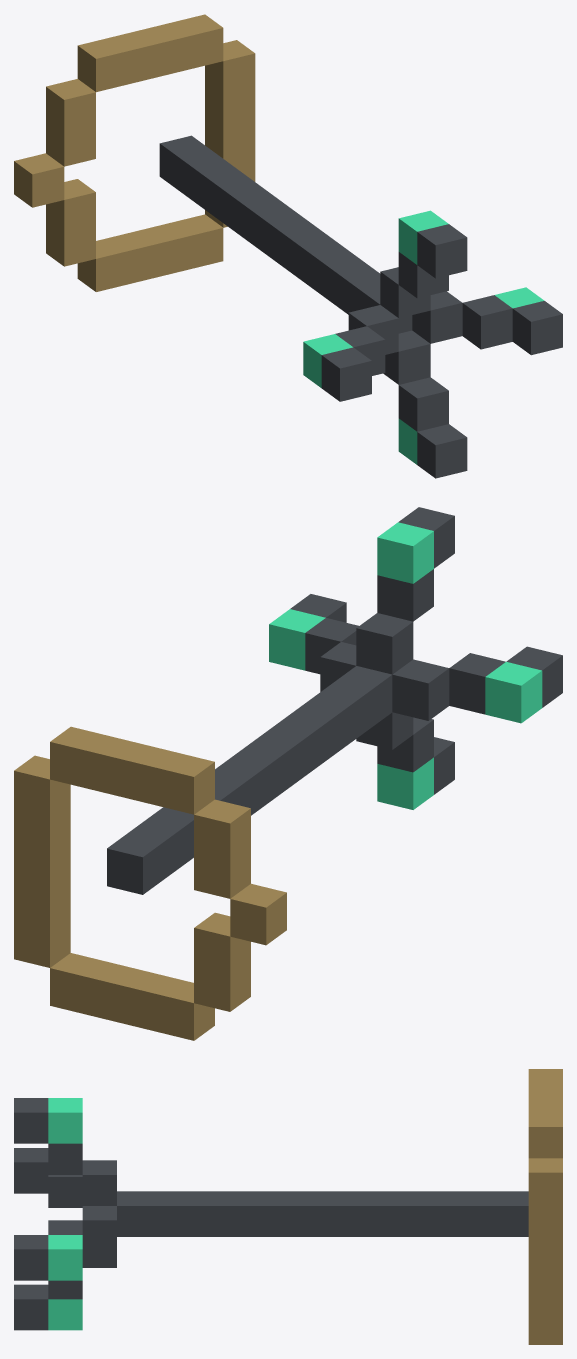
The model's file is vox_hook.glb.
3 renders of one model, top to bottom at view 1: azimuth 30°, elevation 25°; view 2: azimuth 150°, elevation 25°; view 3: azimuth 270°, elevation 25°, orthographic. The views are drawn at different scales.
Visible parts, largest first — view 1: vox_hook; view 2: vox_hook; view 3: vox_hook.
Boxes of the visible parts, x1,y1,x2,y2 form: vox_hook: (14,14,562,478); vox_hook: (14,507,562,1040); vox_hook: (14,1069,562,1344).
Size of the model in its own units: 0.16 by 0.14 by 0.32.
